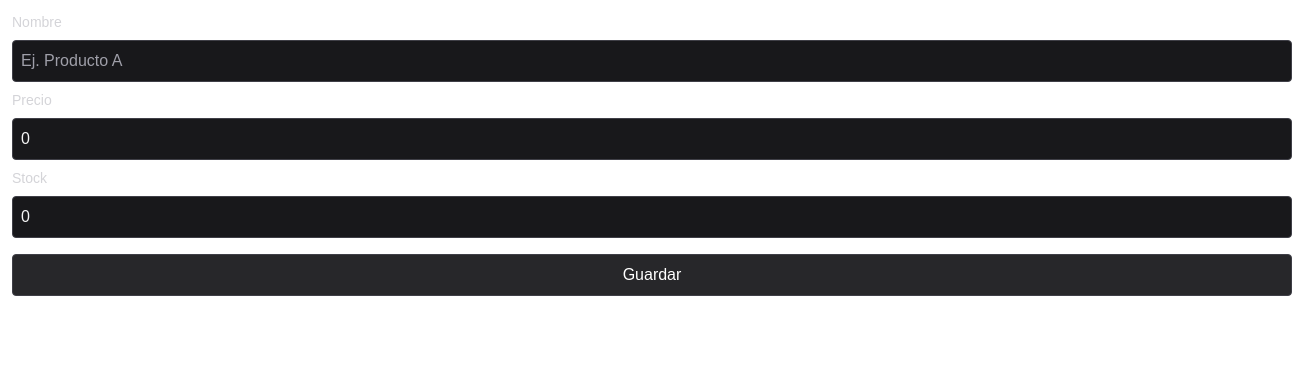
ProductForm validation › shows validation errors and blocks submit when invalid
The image size is (1304, 369).
Note: Submit without filling values
Click the button "Guardar": (652, 275) [12,254,1292,296]
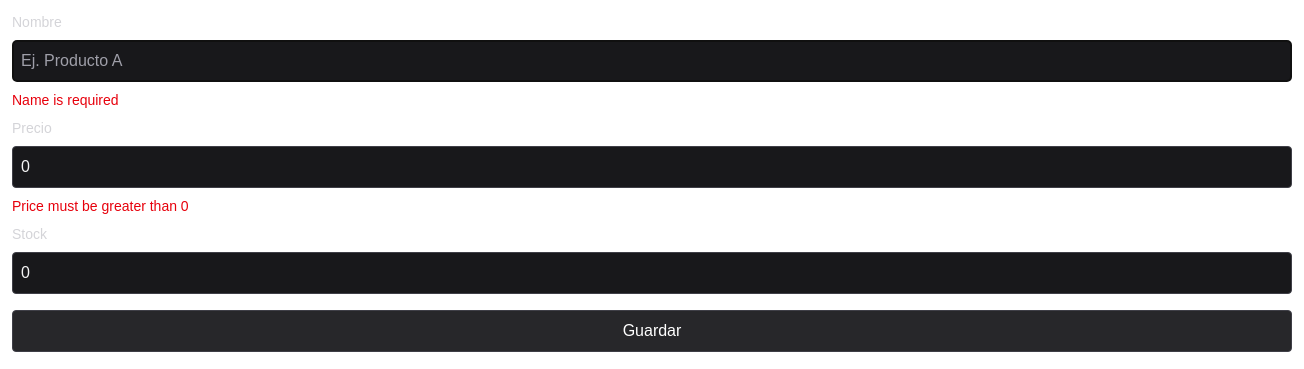
Expected: the text "Name is required" is shown, [12,92,119,108]
Expected: the text "Price must be greater than 0" is shown, [12,198,189,214]
